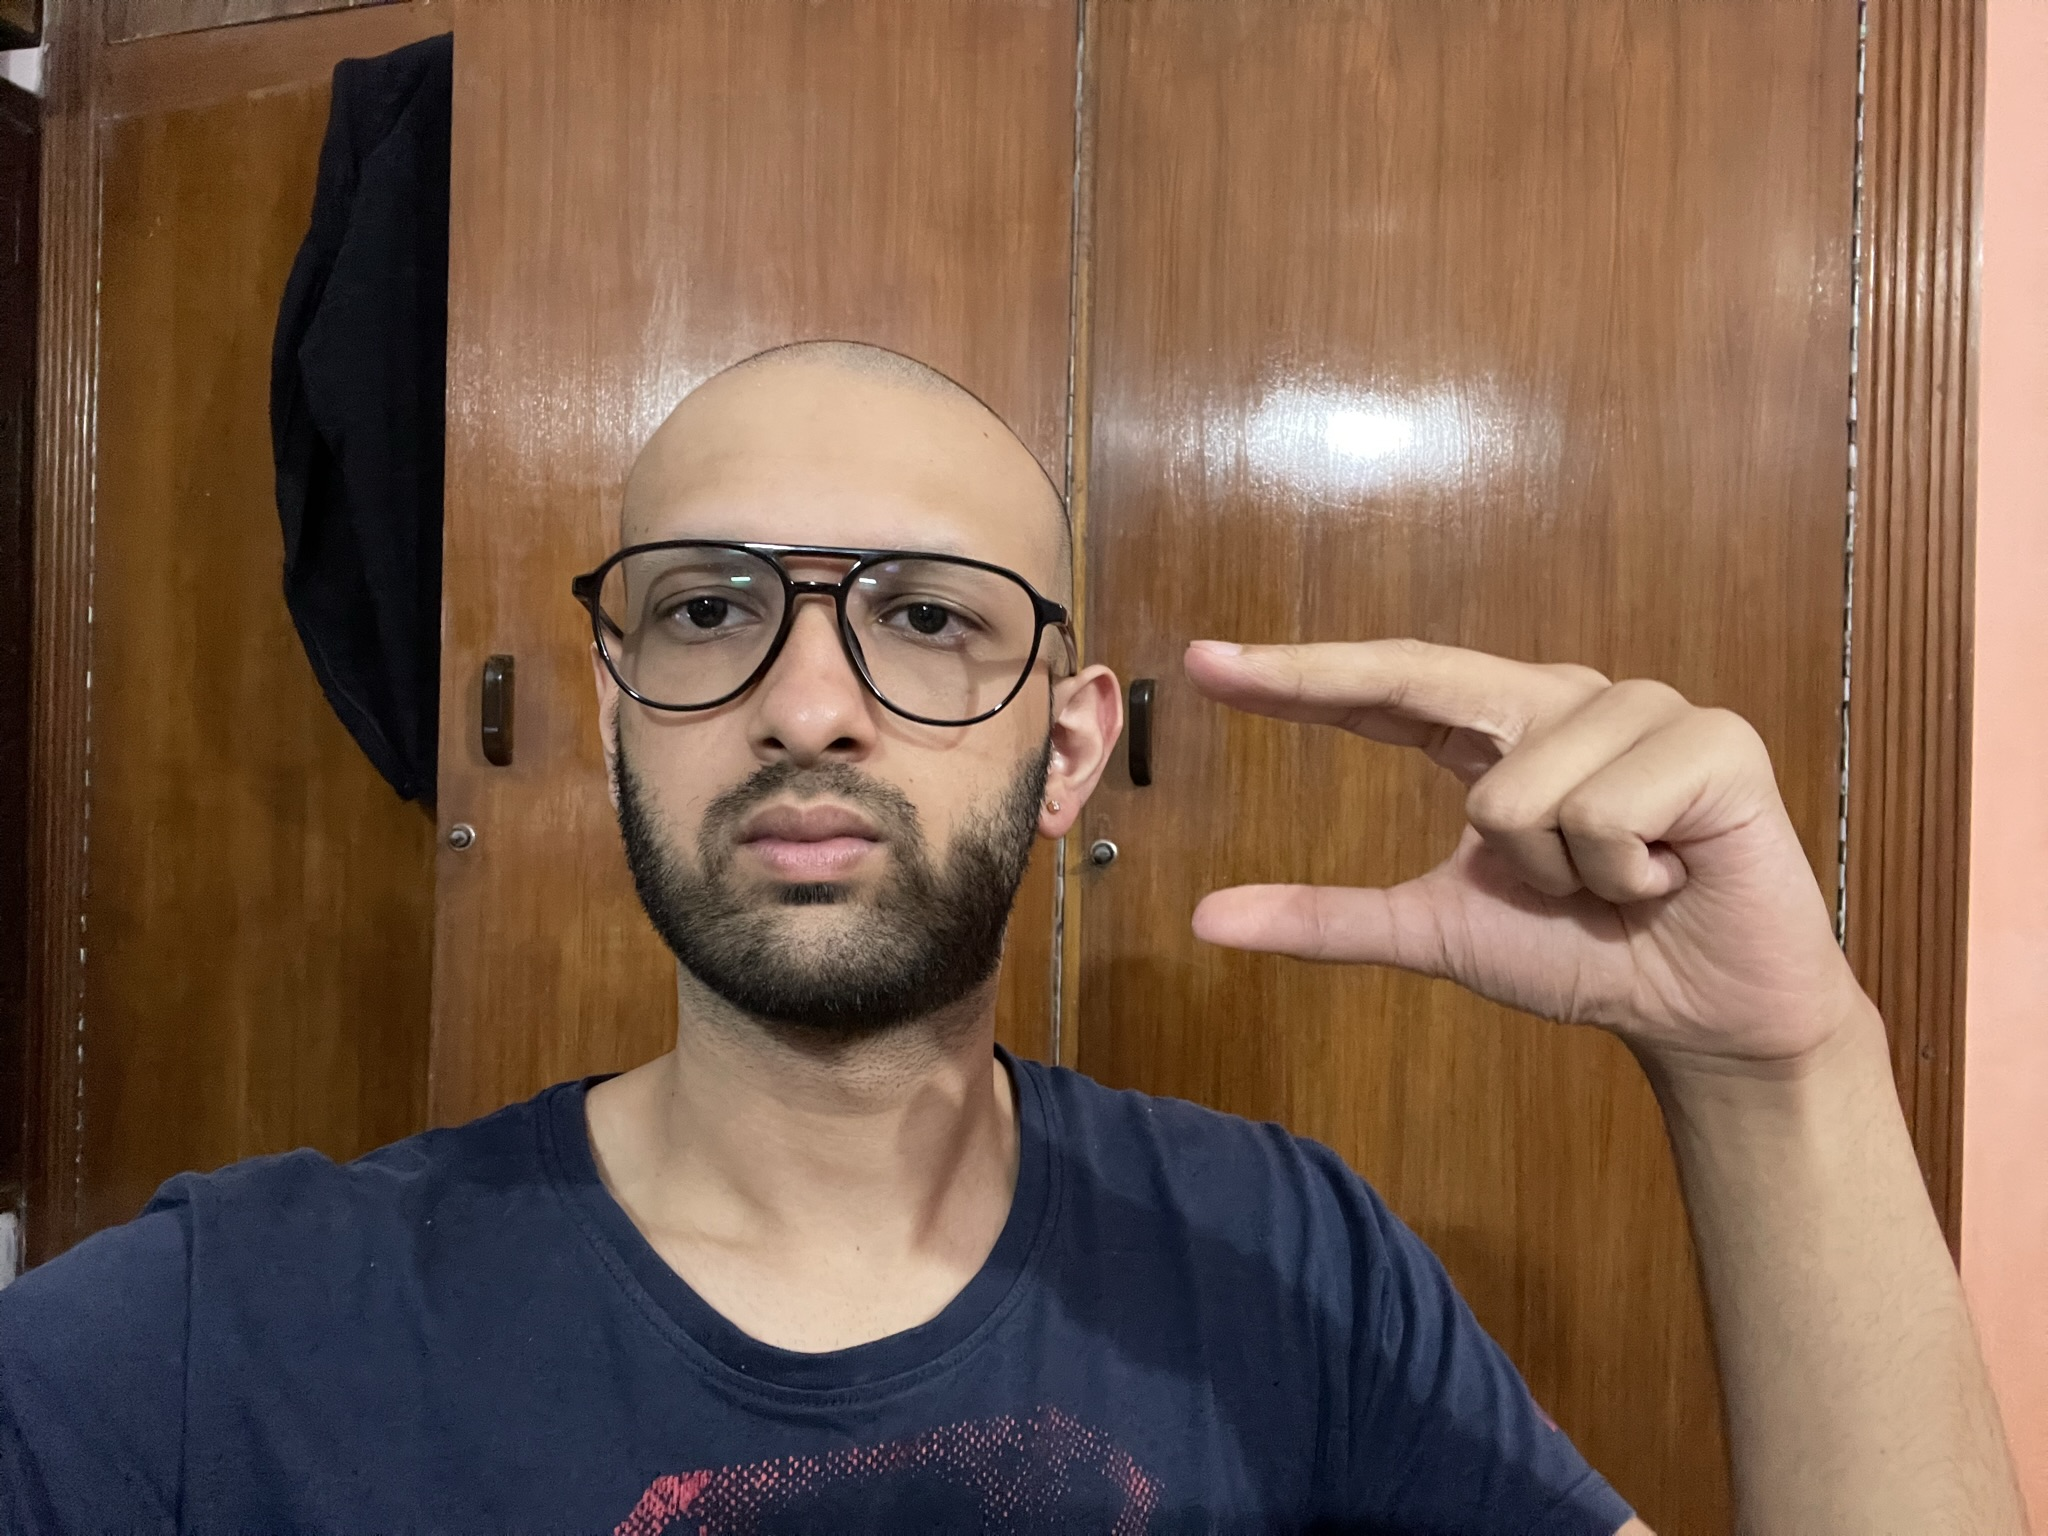No: (1172, 616, 1872, 1087)
